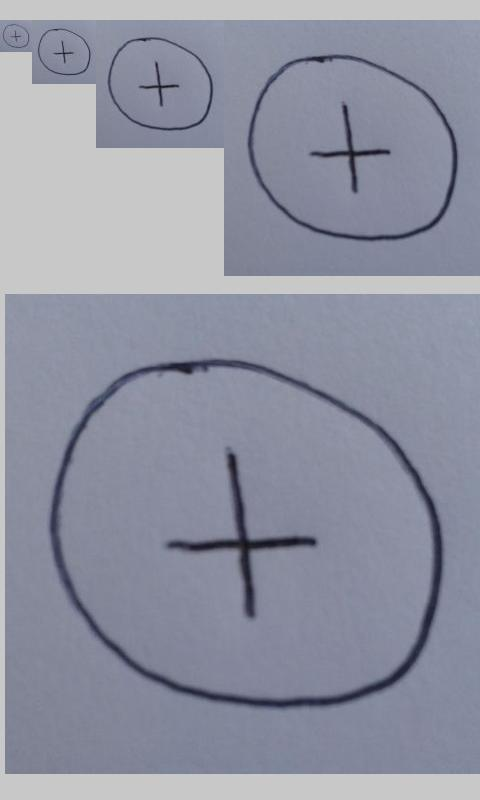button: (49, 357, 443, 712), (247, 53, 460, 242), (107, 36, 213, 131), (37, 28, 92, 76), (2, 24, 30, 49)
